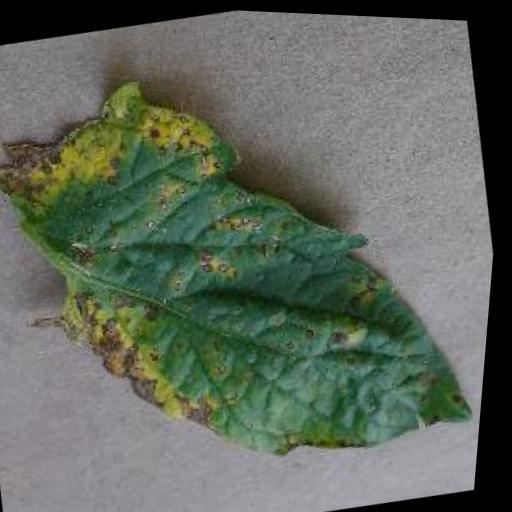Early Blight: (0, 16, 511, 512)
